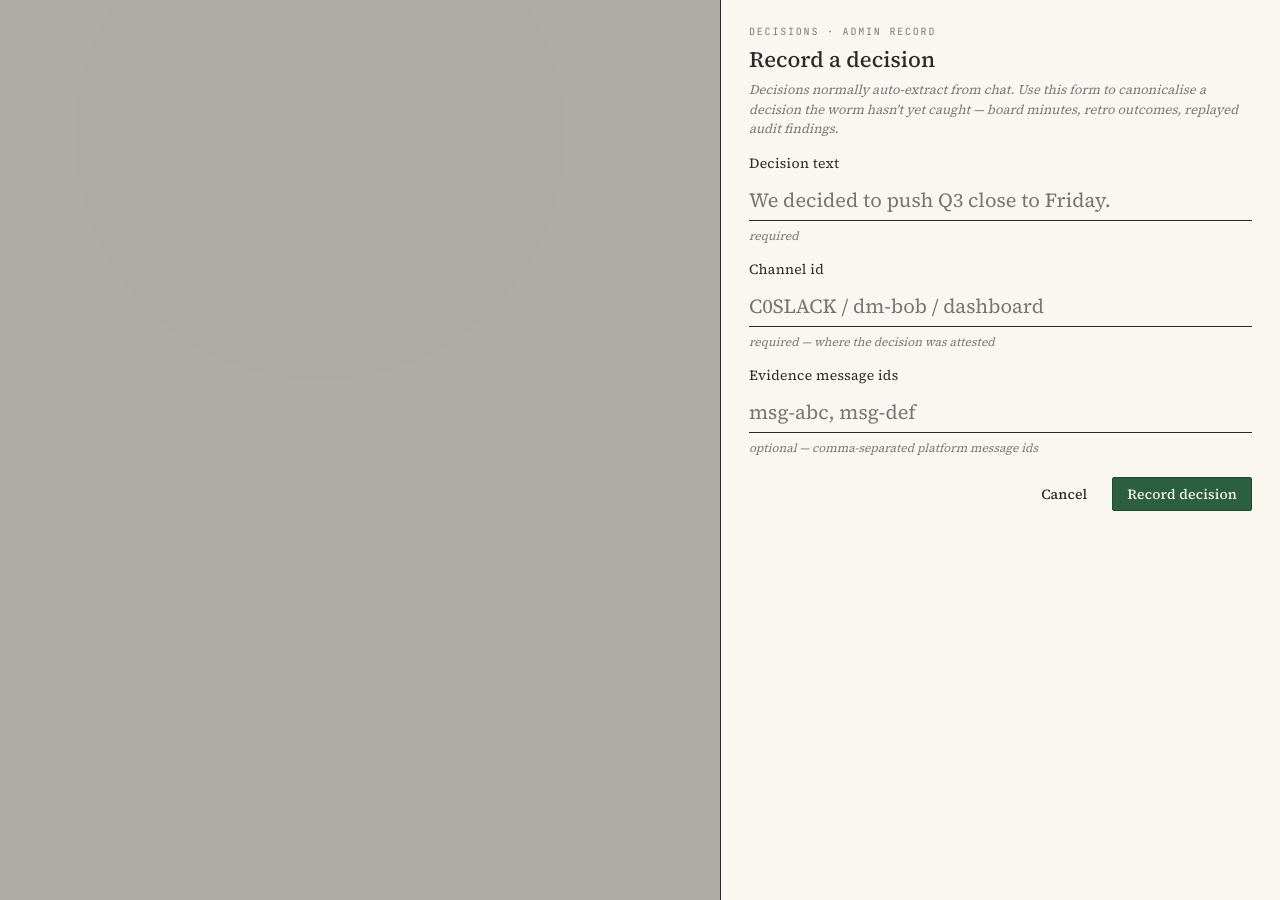
Scenario: DecisionDetailDrawer · record › validates decision_text is required
Click the button with test id "decision-record-submit" at [1182, 494], box [1112, 476, 1252, 510]
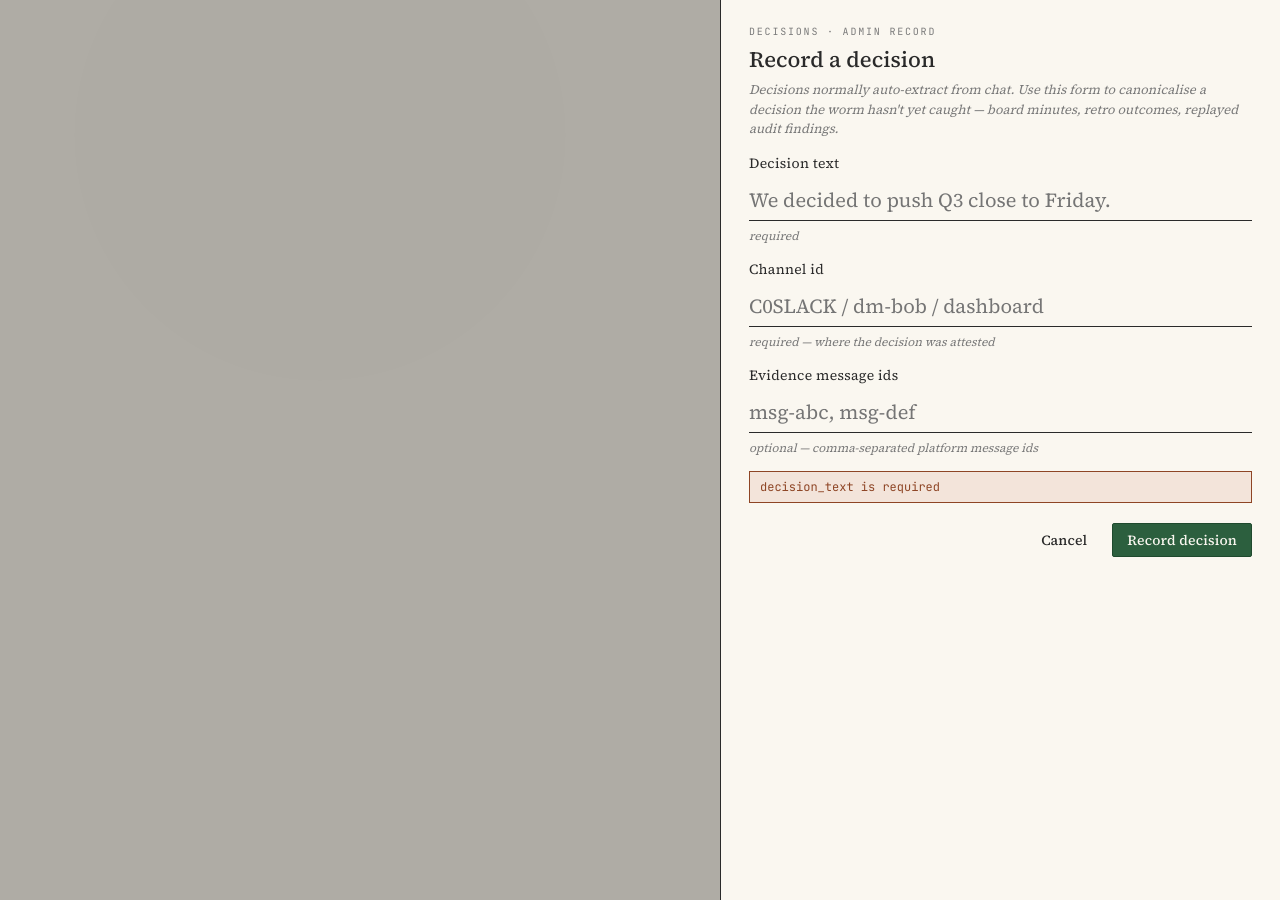
Expected: the message with test id "decision-record-error" shows "decision_text", [760, 478, 940, 494]
